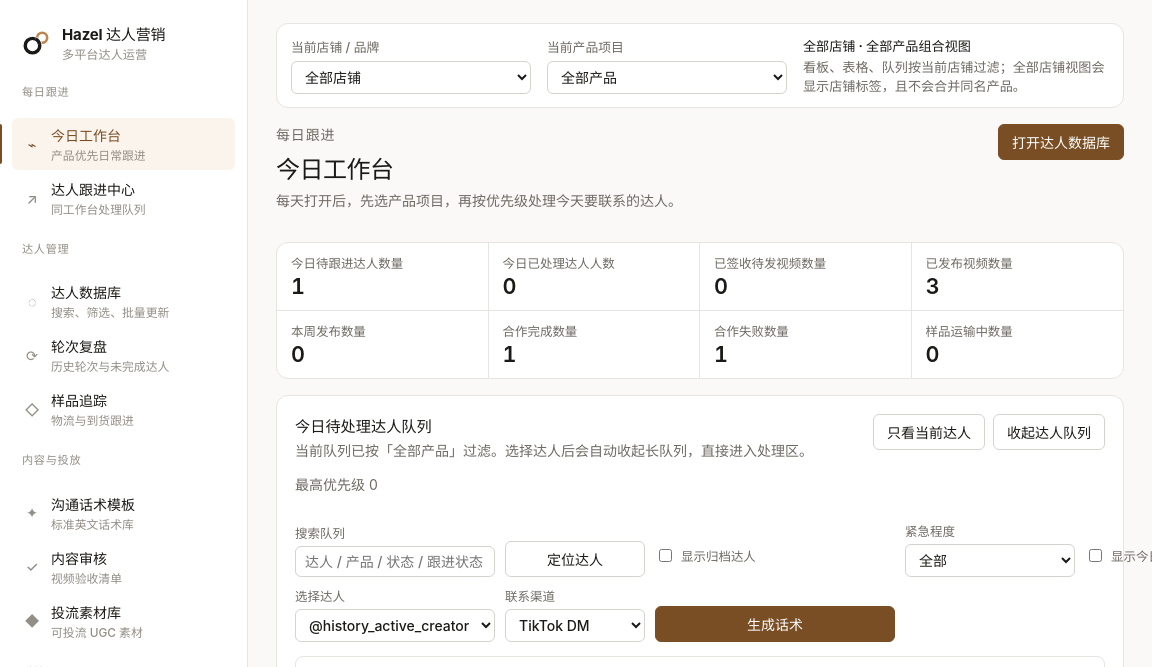
Scenario: operations workbench navigation and dashboard › keeps historical cumulative published videos aligned between Dashboard, Campaign, and drill-down
The width and height of the screenshot is (1164, 667).
Step 1. Click the button named "已发布视频数量3" → (1017,277), box [912, 243, 1123, 311]
(page scrolled)
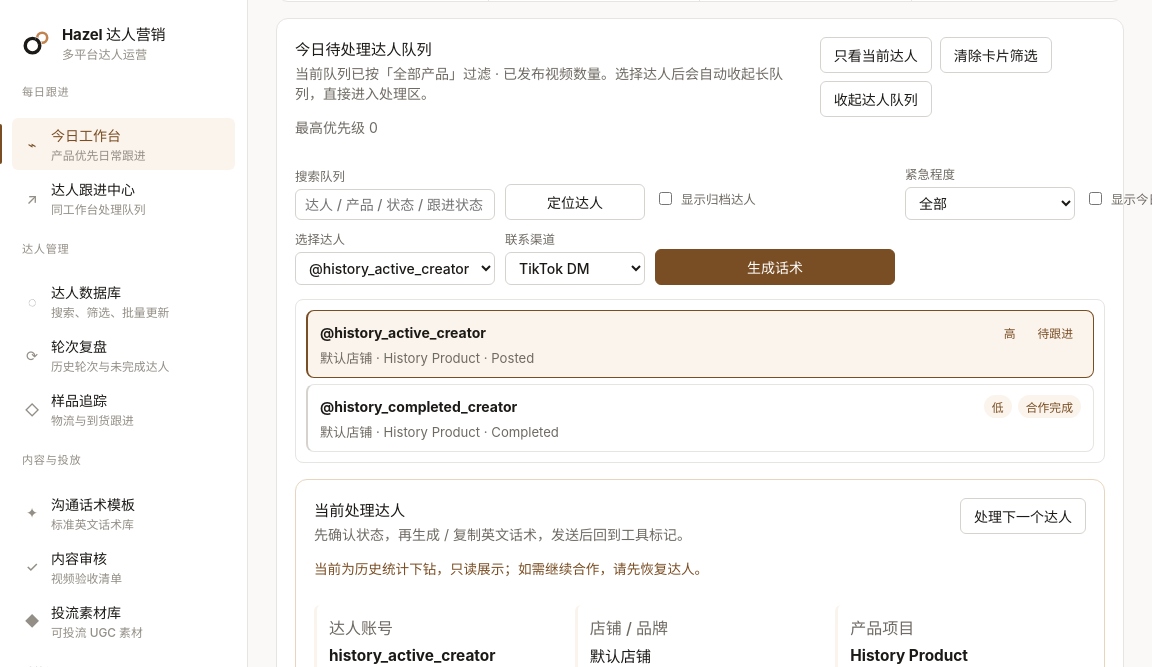
Expected: the element with test id "creator-queue" shows "history_active_creator", [306, 310, 1094, 378]
Result: the element with test id "creator-queue" shows "history_completed_creator" at [306, 384, 1094, 452]
Step 2. Click the button "生成话术" → (775,267), box [655, 249, 895, 285]
(page scrolled)
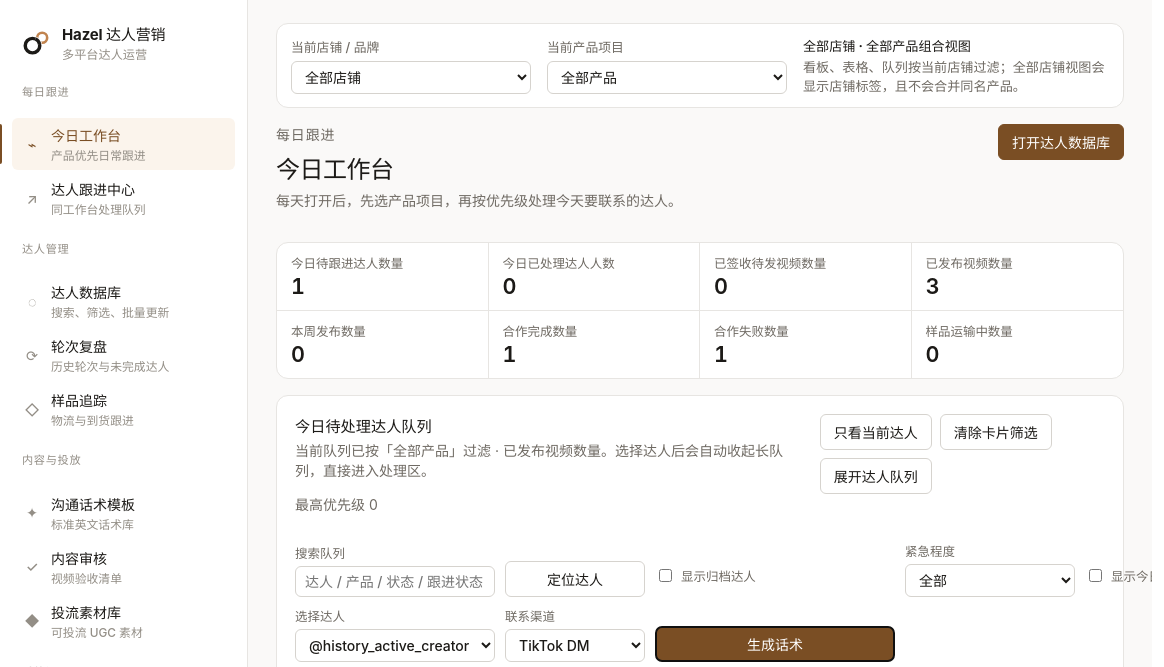
Step 3. Click the button named "合作完成数量1" → (594,344), box [488, 311, 700, 378]
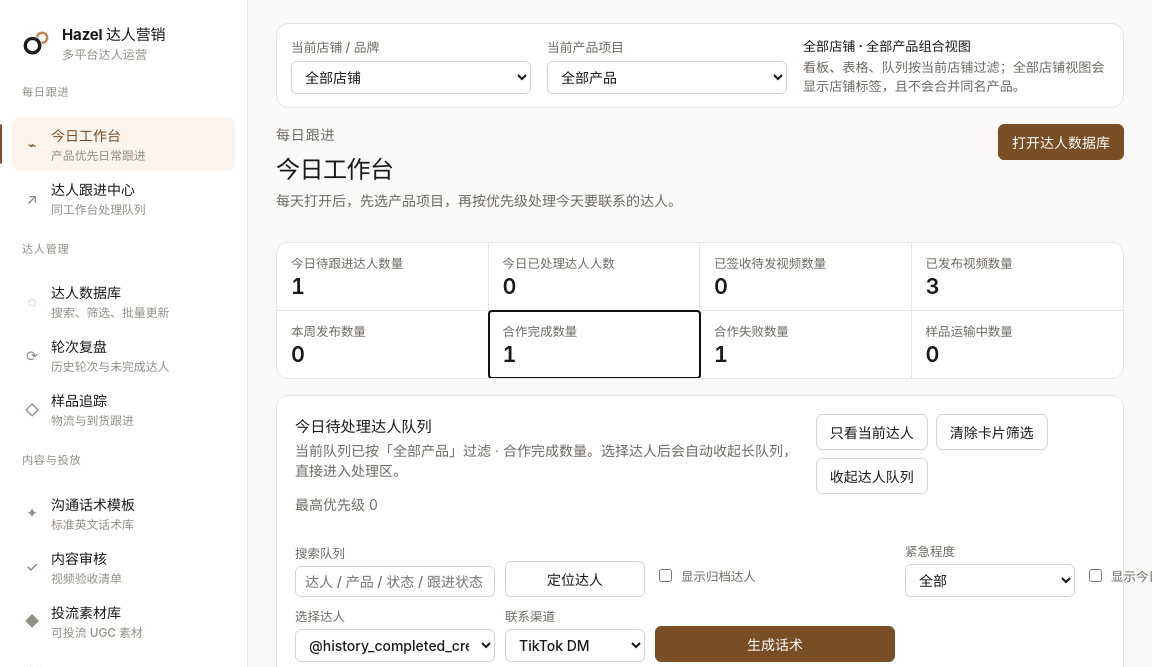
Step 4. Click the button named "合作失败数量1" → (806,344), box [700, 311, 912, 378]
(page scrolled)
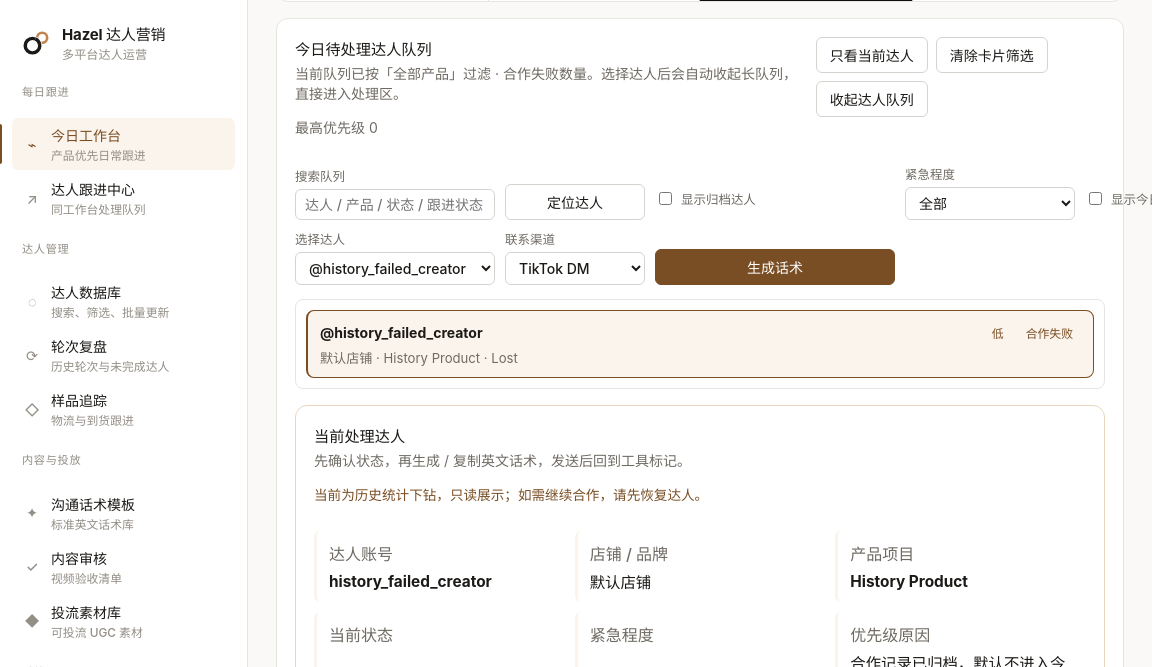
Result: the element with test id "creator-queue" shows "history_failed_creator" at [306, 310, 1094, 378]
